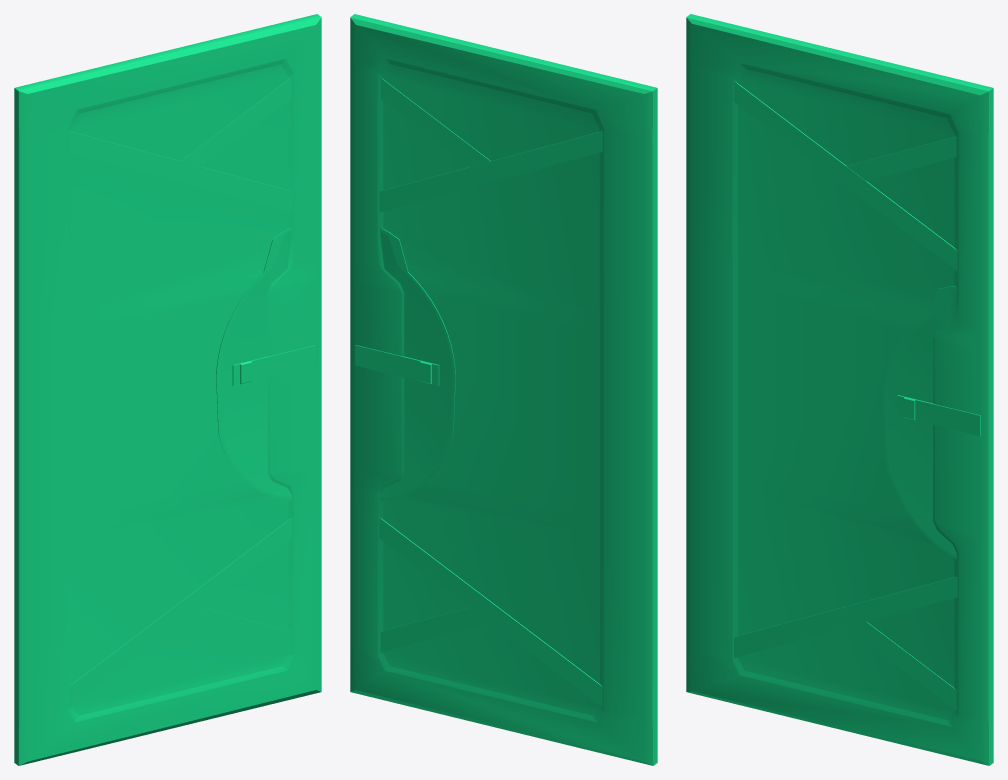
File: Door02_Door.FBX
3 renders of one model, left to right at view 1: azimuth 30°, elevation 25°; view 2: azimuth 150°, elevation 25°; view 3: azimuth 330°, elevation 25°, orthographic.
Visible parts, largest first — view 1: SM_Door02_Door; view 2: SM_Door02_Door; view 3: SM_Door02_Door.
Part boxes in pixels (<box>): SM_Door02_Door: <box>14,14,321,765</box>; SM_Door02_Door: <box>350,14,657,765</box>; SM_Door02_Door: <box>686,14,993,765</box>.
Size of the model in its own units: 121 by 257 by 6.47.
